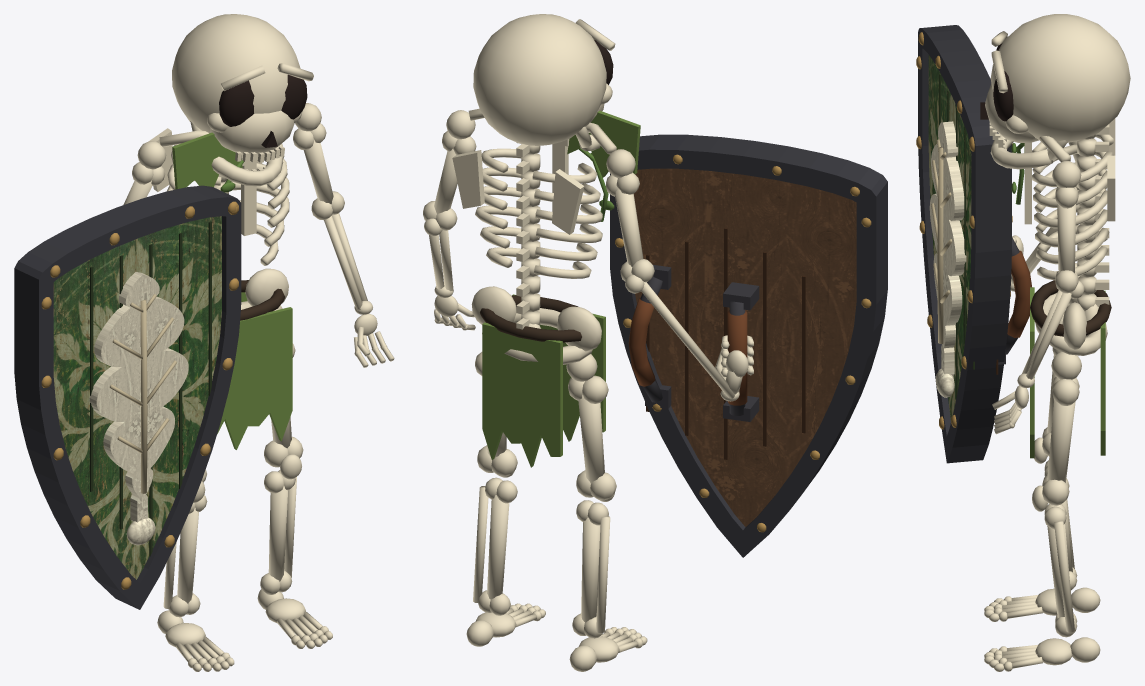
File: mossward_guardian.glb
3 renders of one model, left to right at view 1: azimuth 30°, elevation 25°; view 2: azimuth 150°, elevation 25°; view 3: azimuth 270°, elevation 25°, orthographic. The views are drawn at different scales.
Visible parts, largest first — view 1: Shield, Head, Torso, RightLeg, RightArm, LeftLeg, LeftArm; view 2: Shield, Torso, Head, LeftLeg, RightLeg, LeftArm, RightArm; view 3: Shield, Head, Torso, RightLeg, RightArm, LeftLeg, LeftArm.
Part boxes in pixels (bbox=[...]): Shield: bbox=[14, 185, 241, 609]; Head: bbox=[172, 14, 313, 186]; Torso: bbox=[149, 110, 302, 449]; RightLeg: bbox=[257, 343, 332, 648]; RightArm: bbox=[293, 103, 394, 367]; LeftLeg: bbox=[157, 469, 234, 671]; LeftArm: bbox=[123, 141, 166, 204]; Shield: bbox=[610, 134, 887, 557]; Torso: bbox=[452, 108, 640, 467]; Head: bbox=[473, 14, 615, 151]; LeftLeg: bbox=[566, 354, 647, 671]; RightLeg: bbox=[466, 352, 545, 646]; LeftArm: bbox=[606, 149, 753, 401]; RightArm: bbox=[423, 110, 476, 330]; Shield: bbox=[916, 25, 1031, 463]; Head: bbox=[980, 14, 1130, 169]; Torso: bbox=[1011, 118, 1115, 458]; RightLeg: bbox=[984, 351, 1100, 671]; RightArm: bbox=[992, 161, 1084, 434]; LeftLeg: bbox=[984, 313, 1100, 621]; LeftArm: bbox=[1010, 141, 1107, 291].
Bounding box in the file's own units: 1.11 × 1.62 × 0.5078.
15 materials, 3 textured.
